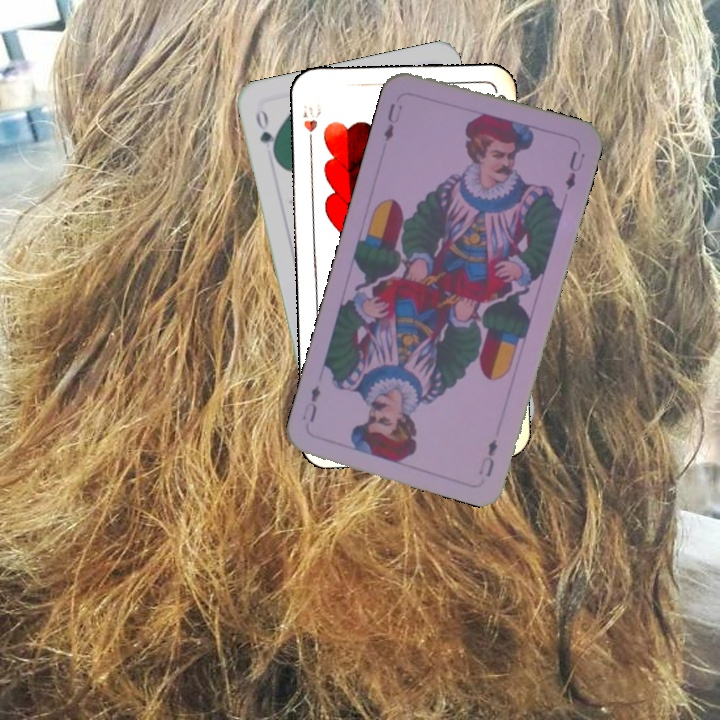EU: (379, 99, 405, 145), (474, 435, 500, 480)
GO: (251, 104, 279, 162)
H10: (299, 100, 323, 152)
